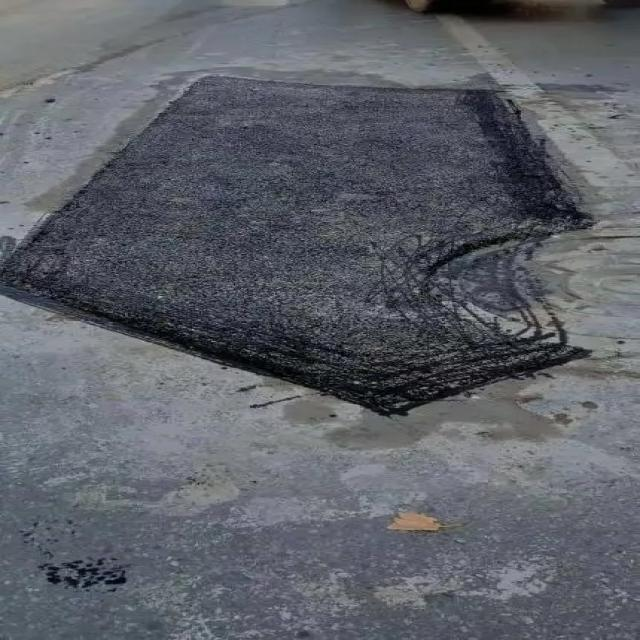Pothole: (11, 72, 598, 408)
